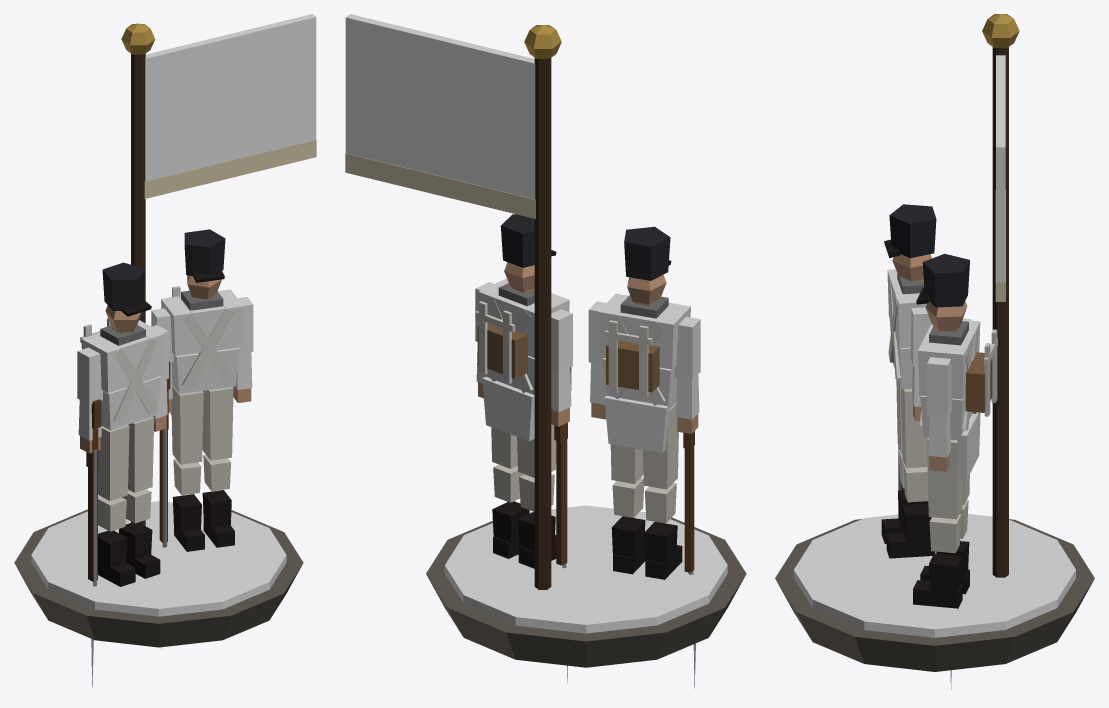
Rendered from map_marker_c19.glb.
3 renders of one model, left to right at view 1: azimuth 30°, elevation 25°; view 2: azimuth 150°, elevation 25°; view 3: azimuth 270°, elevation 25°, orthographic. The views are drawn at different scales.
Visible parts, largest first — view 1: map_marker_c19; view 2: map_marker_c19; view 3: map_marker_c19.
Part boxes in pixels (x1=…): map_marker_c19: x1=14, y1=14, x2=316, y2=687; map_marker_c19: x1=345, y1=14, x2=746, y2=688; map_marker_c19: x1=775, y1=14, x2=1094, y2=689.
Bounding box in the file's own units: 1.69 × 3.19 × 1.36.
